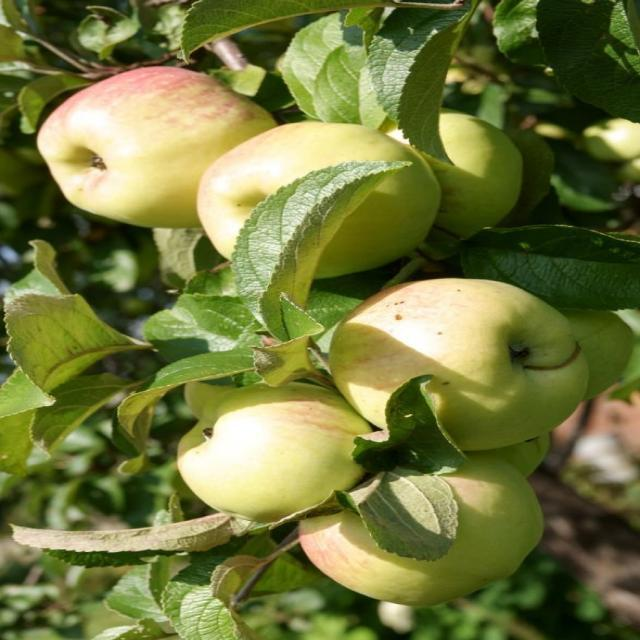Green Apple: (333, 276, 588, 436), (319, 447, 560, 616), (35, 67, 285, 223), (198, 120, 429, 262), (165, 380, 390, 513), (386, 105, 523, 221), (587, 100, 640, 185)
